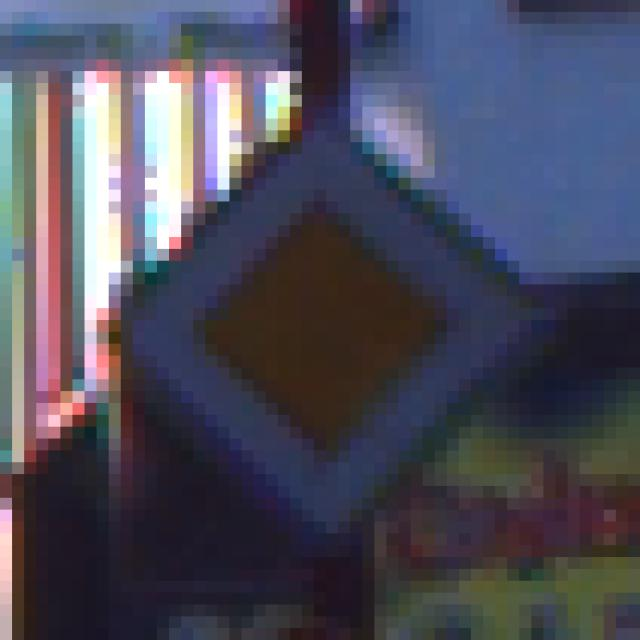Main Road: (62, 72, 581, 582)
